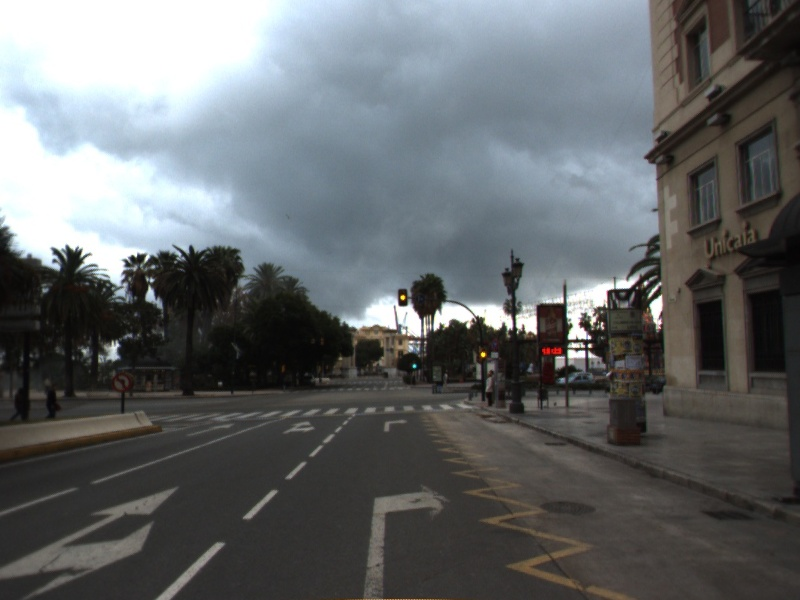RIGHT: (358, 480, 457, 600), (382, 417, 411, 434)
STRAIGHT: (183, 421, 238, 439)
STRAIGHT_RIGHT: (1, 483, 183, 600), (280, 419, 318, 436)
